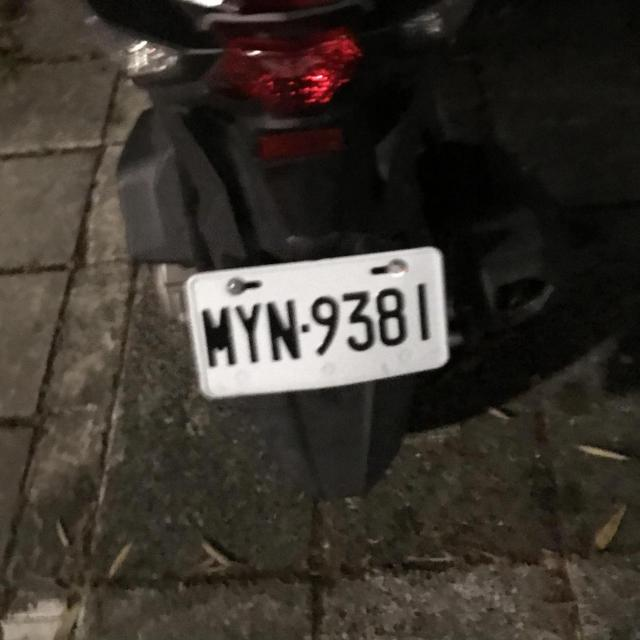W: (179, 236, 458, 408)
